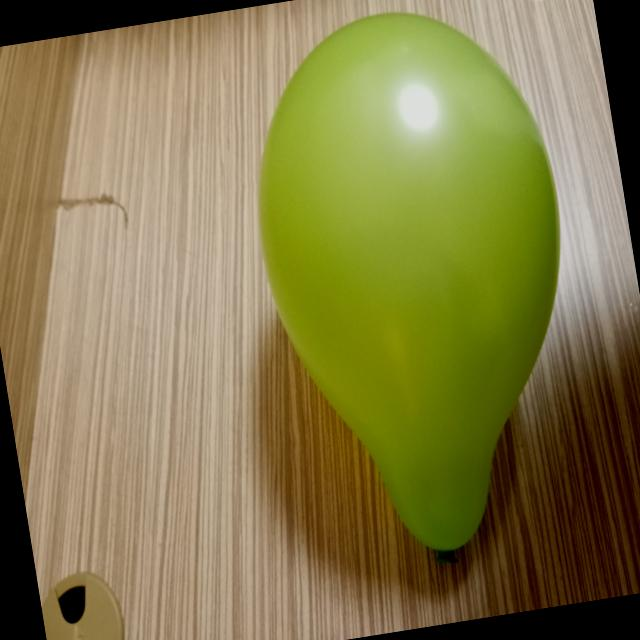balloon: (259, 13, 560, 559)
